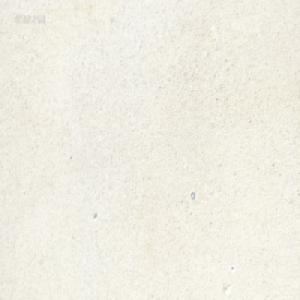Washer: (190, 190, 195, 199)
